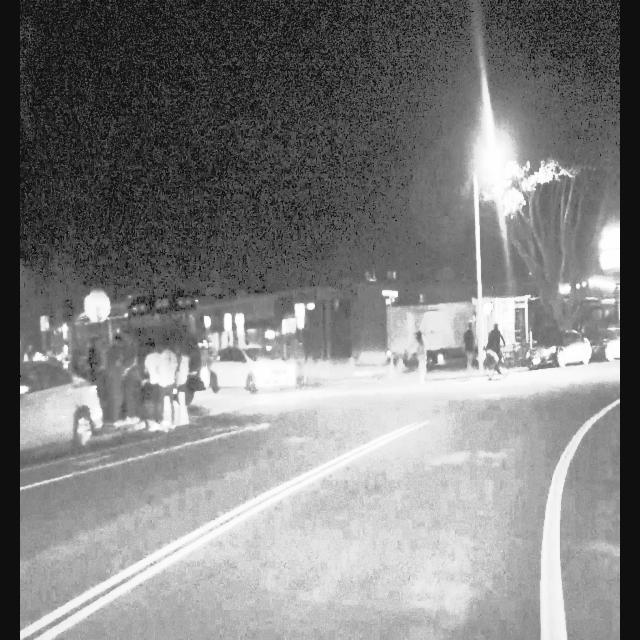Car: (19, 363, 101, 456)
Truck: (387, 304, 476, 368)
